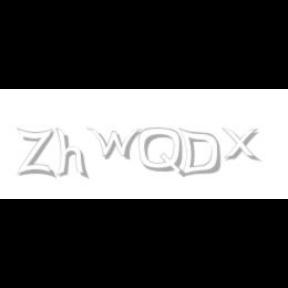D: (178, 128, 220, 178)
Q: (139, 128, 185, 178)
Z: (16, 128, 54, 178)
h: (55, 128, 90, 180)
w: (86, 128, 146, 160)
x: (222, 128, 264, 162)
